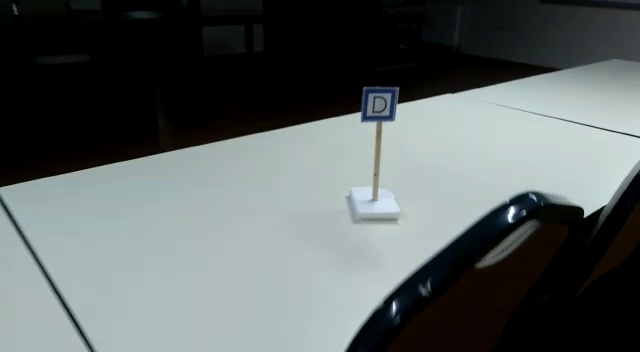durak: (363, 87, 396, 119)
